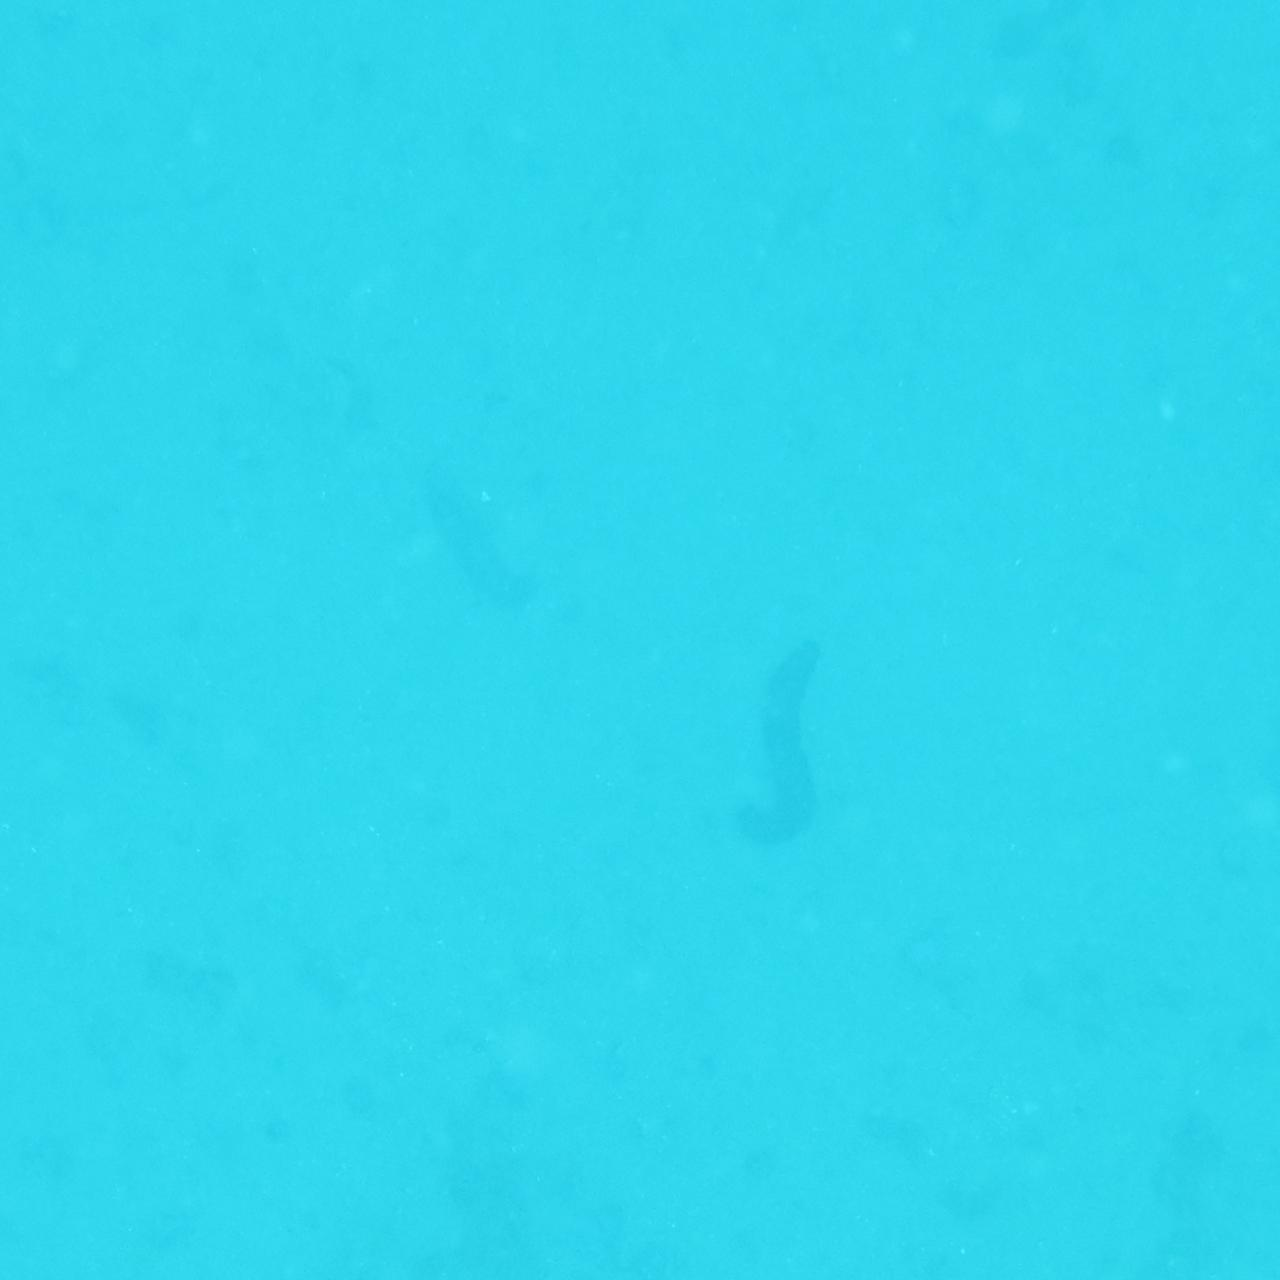Holothuria tubulosa: (716, 627, 847, 851), (414, 455, 584, 627)
